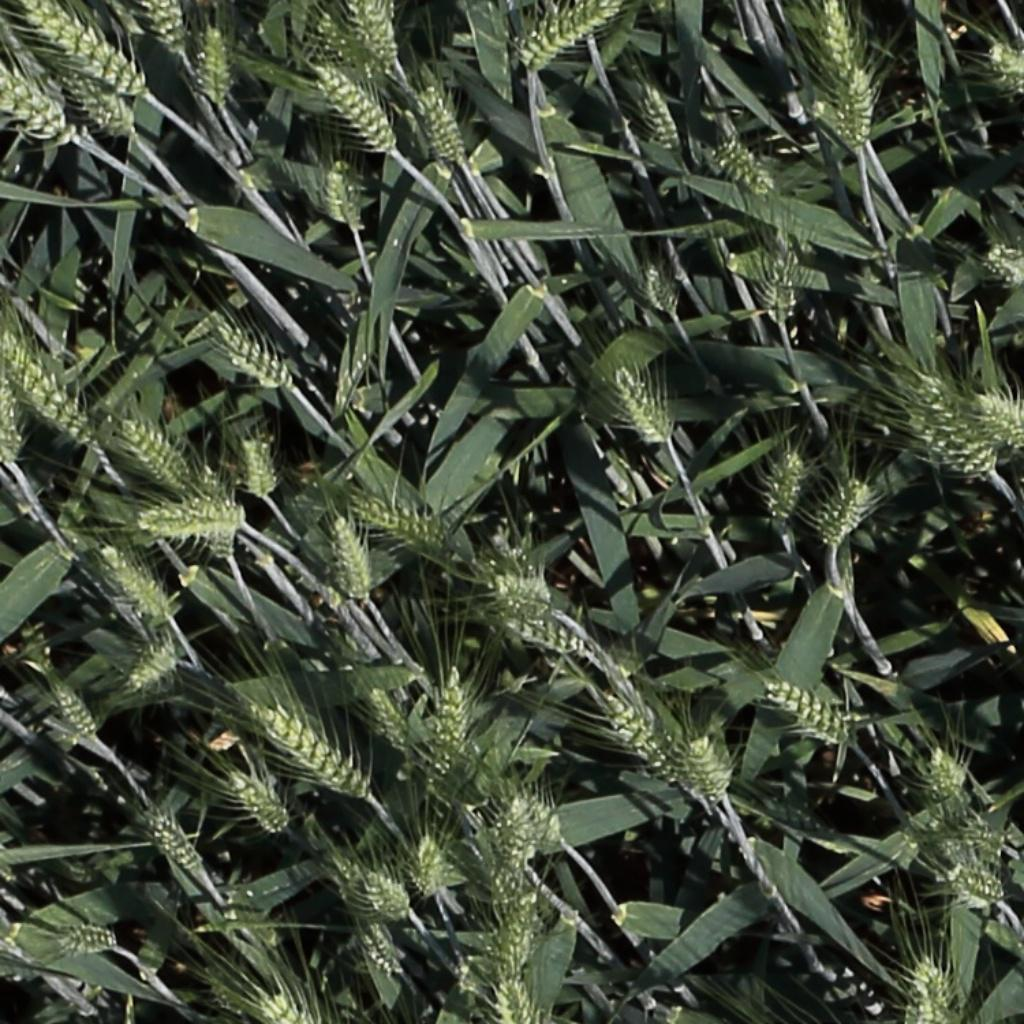0-0: (0, 326, 102, 449), (256, 705, 370, 804), (27, 4, 146, 96), (421, 666, 492, 800), (600, 690, 689, 791), (521, 0, 625, 77), (209, 307, 292, 403), (314, 58, 398, 152), (918, 374, 996, 473), (807, 0, 875, 109), (0, 36, 70, 140), (96, 542, 172, 621), (54, 60, 131, 137), (140, 493, 254, 542), (834, 52, 891, 149), (493, 896, 550, 989), (614, 363, 677, 447), (767, 682, 853, 742), (120, 416, 192, 486), (312, 10, 380, 84), (499, 615, 599, 665), (146, 811, 210, 886), (415, 79, 469, 167), (195, 19, 240, 118), (818, 472, 875, 550), (191, 457, 236, 552), (483, 567, 562, 620), (753, 230, 797, 325), (343, 862, 415, 920), (228, 771, 290, 838), (354, 499, 446, 544), (714, 135, 778, 199), (330, 510, 374, 603), (364, 681, 415, 757), (0, 361, 34, 475), (643, 79, 688, 165), (47, 678, 102, 746), (765, 445, 809, 528), (405, 828, 453, 903), (688, 731, 734, 806), (354, 0, 400, 75), (483, 825, 527, 898), (361, 916, 408, 984), (973, 393, 1024, 454), (140, 0, 191, 60), (939, 858, 1006, 903), (326, 155, 364, 234), (507, 790, 563, 843), (914, 950, 953, 1024), (126, 641, 180, 692), (643, 256, 684, 320), (240, 432, 275, 503), (928, 742, 966, 806), (56, 922, 116, 957), (495, 972, 534, 1024), (987, 43, 1024, 96), (262, 993, 319, 1024), (984, 241, 1024, 283)
